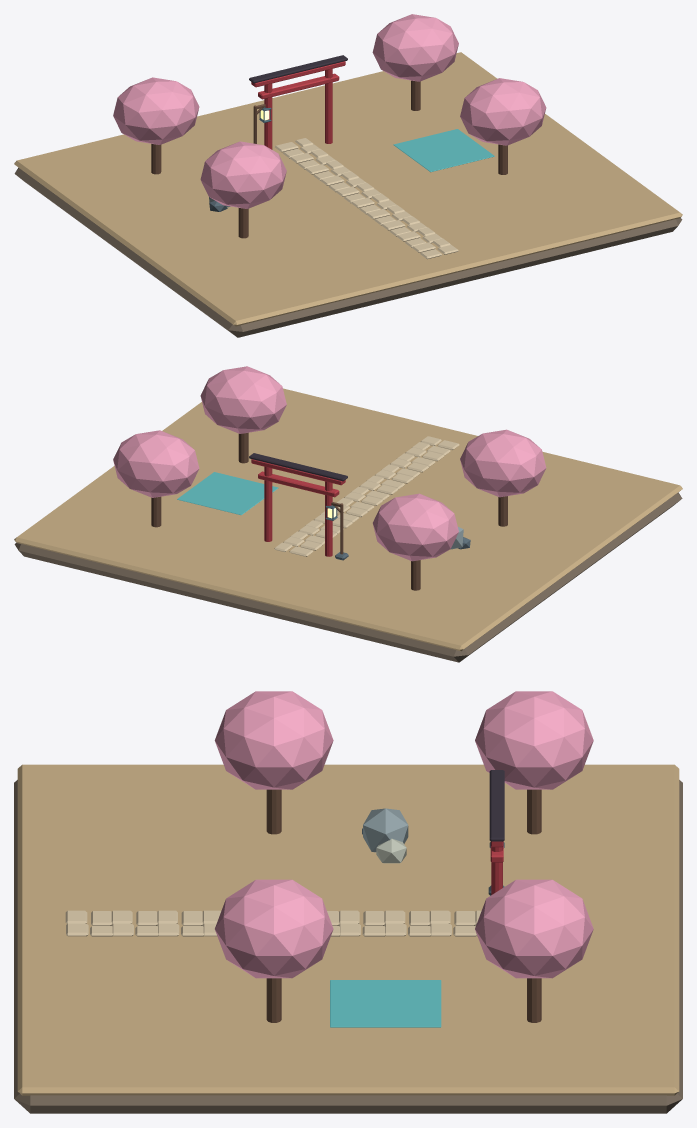
The model's file is world-zen.glb.
The picture shows the model from 3 angles, top to bottom: view 1: azimuth 30°, elevation 25°; view 2: azimuth 150°, elevation 25°; view 3: azimuth 270°, elevation 25°; orthographic projection. The views are drawn at different scales.
Parts seen in each view (by area): view 1: terrain-top, terrain-stratum, cherry-blossoms, cherry-blossoms.003, cherry-blossoms.002, cherry-blossoms.001, pond, torii-cap.001, torii-beam.002, torii-post.003; view 2: terrain-top, terrain-stratum, cherry-blossoms.001, cherry-blossoms.003, cherry-blossoms, cherry-blossoms.002, pond, torii-cap.001, torii-beam.002, torii-post.003, torii-post.002, torii-beam.003; view 3: terrain-top, terrain-stratum, cherry-blossoms.003, cherry-blossoms.002, cherry-blossoms, cherry-blossoms.001, pond, rock.003, torii-cap.001, cherry-trunk, cherry-trunk.002, cherry-trunk.001 (+1 smaller).
Part boxes in pixels (box(x1,y1,x2,y2)): terrain-top: box(14, 52, 682, 326); terrain-stratum: box(14, 167, 682, 337); cherry-blossoms: box(200, 141, 286, 208); cherry-blossoms.003: box(372, 14, 458, 81); cherry-blossoms.002: box(460, 78, 546, 145); cherry-blossoms.001: box(113, 77, 199, 144); pond: box(393, 129, 494, 172); torii-cap.001: box(249, 55, 347, 83); torii-beam.002: box(258, 73, 339, 99); torii-post.003: box(325, 69, 332, 143); terrain-top: box(14, 388, 682, 651); terrain-stratum: box(14, 492, 682, 662); cherry-blossoms.001: box(372, 493, 458, 561); cherry-blossoms.003: box(113, 430, 199, 497); cherry-blossoms: box(460, 429, 546, 497); cherry-blossoms.002: box(200, 366, 286, 433); pond: box(177, 472, 278, 515); torii-cap.001: box(249, 453, 347, 481); torii-beam.002: box(258, 471, 339, 497); torii-post.003: box(264, 466, 272, 541); torii-post.002: box(325, 481, 332, 556); torii-beam.003: box(251, 459, 345, 485); terrain-top: box(17, 764, 679, 1095); terrain-stratum: box(14, 780, 682, 1113); cherry-blossoms.003: box(475, 879, 593, 978); cherry-blossoms.002: box(215, 879, 333, 978); cherry-blossoms: box(214, 691, 333, 789); cherry-blossoms.001: box(475, 691, 593, 789); pond: box(330, 980, 441, 1027); rock.003: box(363, 808, 408, 852); torii-cap.001: box(489, 770, 504, 841); cherry-trunk: box(266, 789, 281, 834); cherry-trunk.002: box(266, 978, 281, 1022); cherry-trunk.001: box(527, 789, 541, 834).
Bounding box in the file's own units: 21 × 4.89 × 18.
